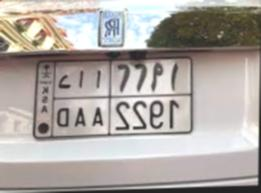License_Plate: (30, 55, 196, 142)
